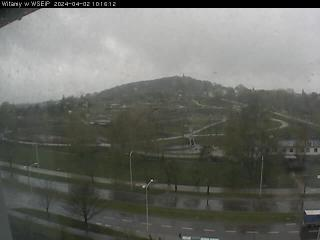bus: (301, 208, 320, 232)
